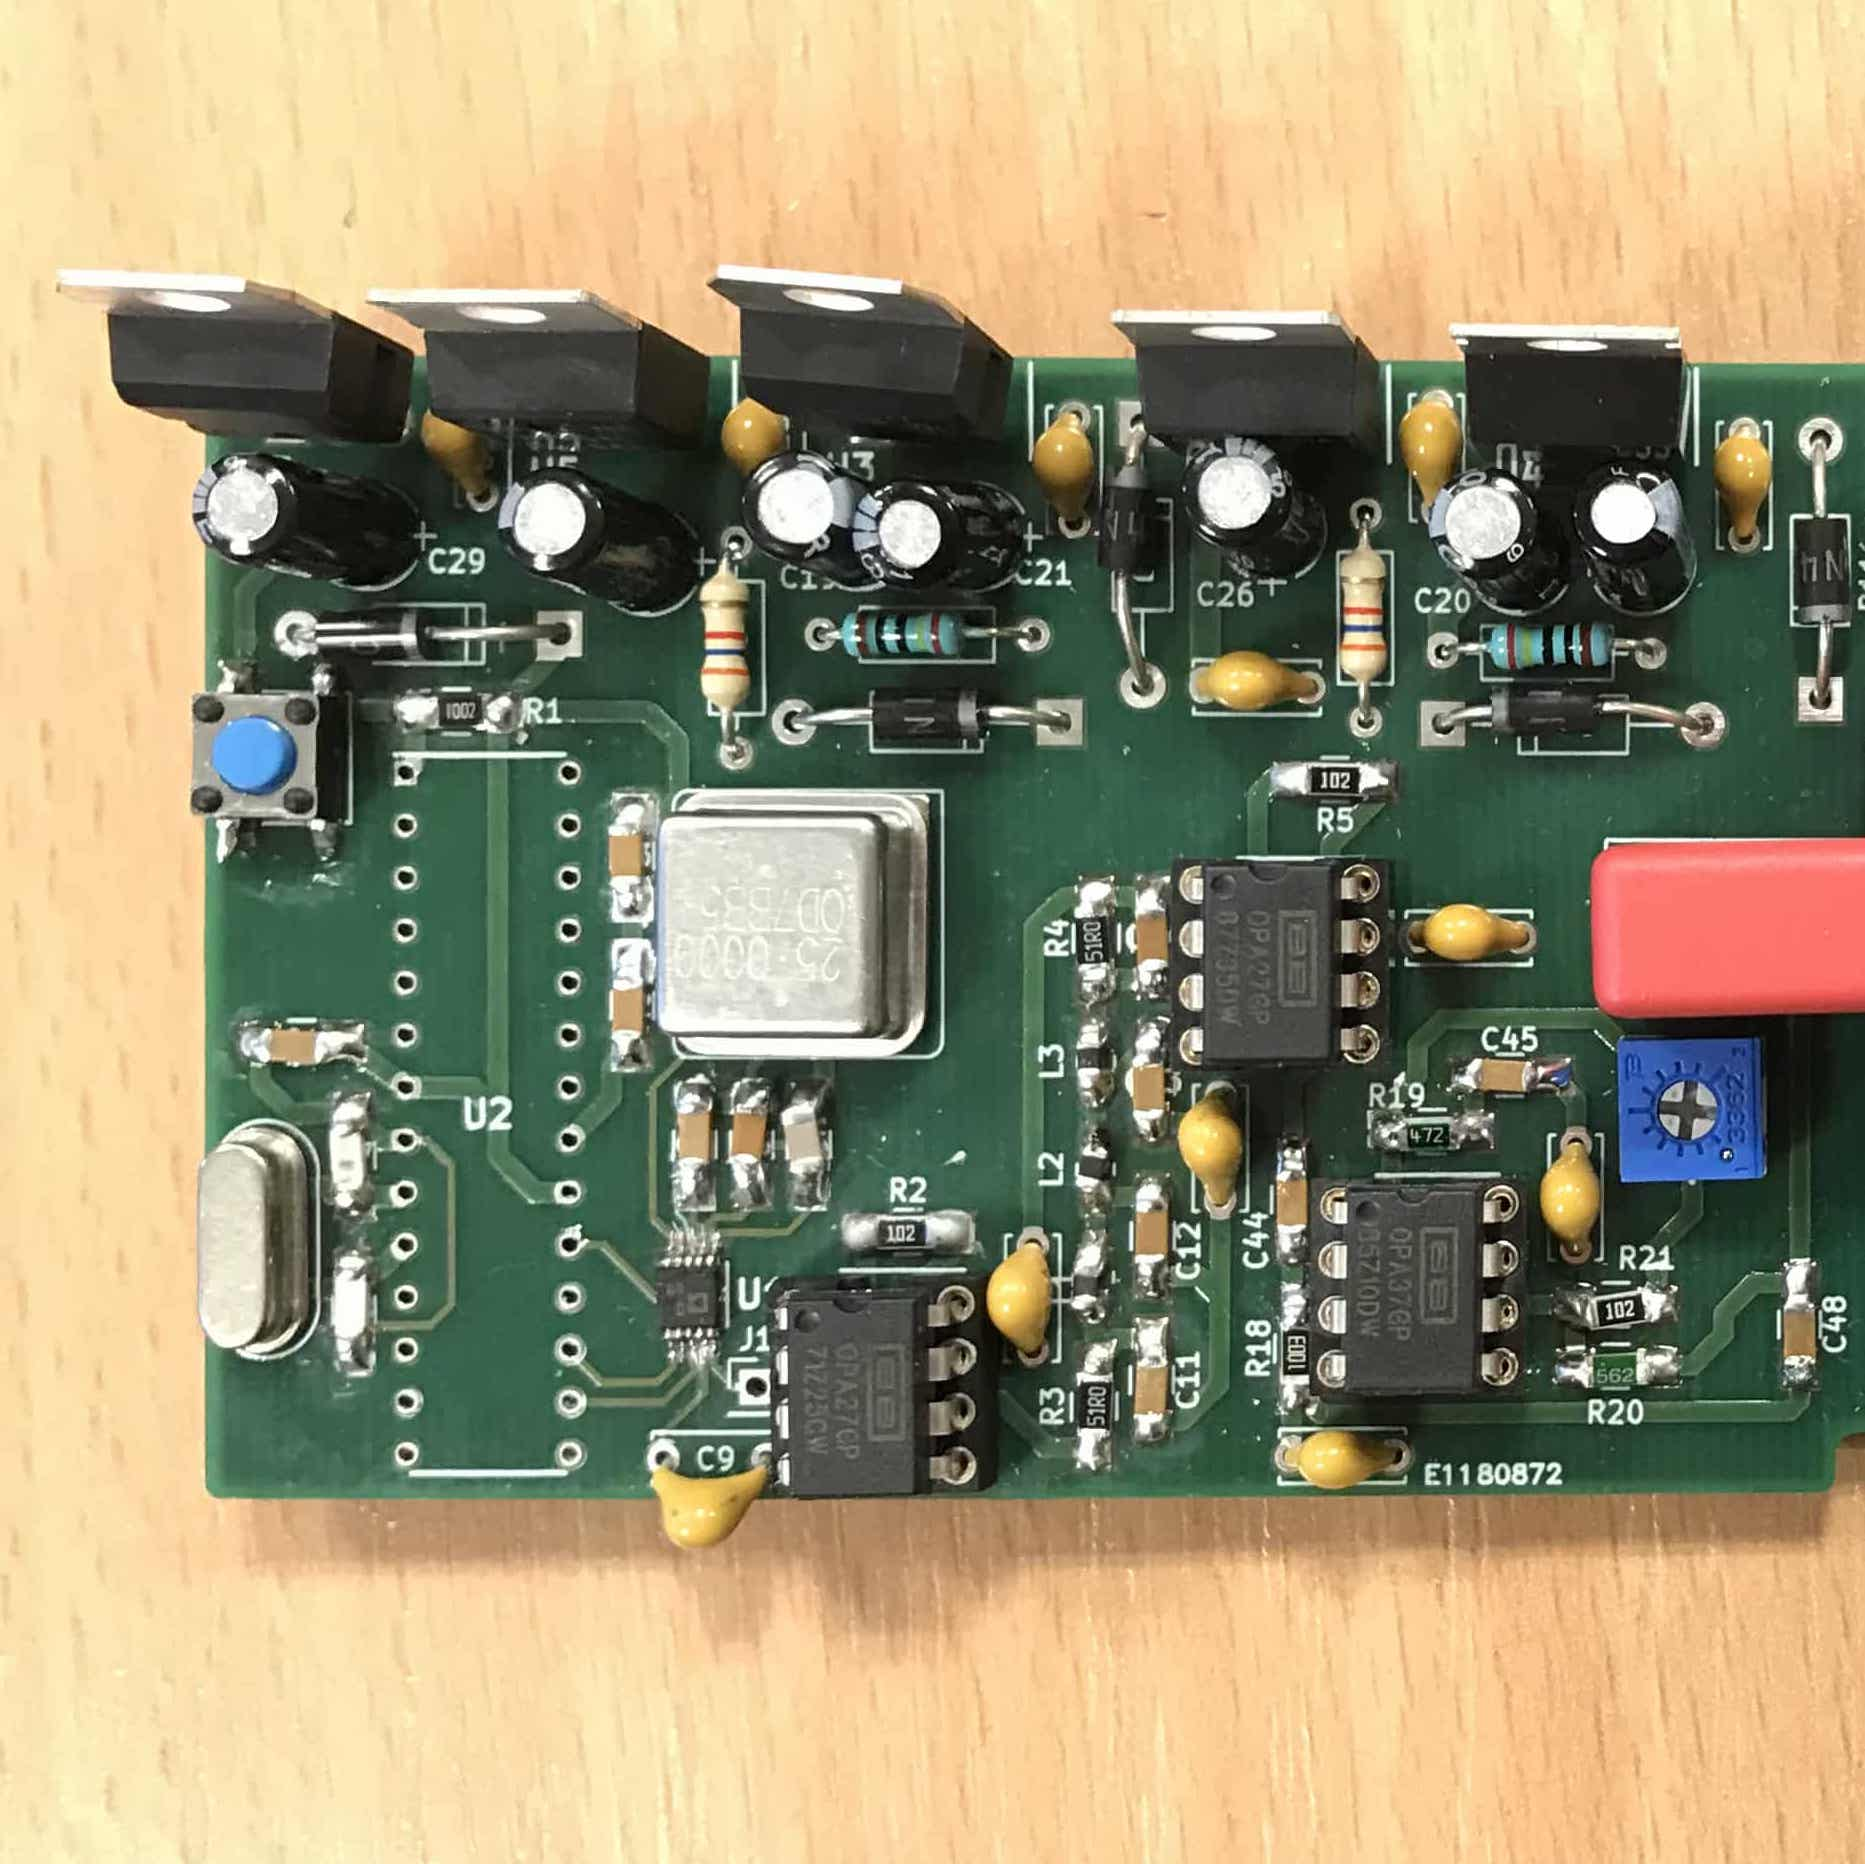Capacitor: (188, 454, 415, 591), (491, 464, 696, 615), (1172, 432, 1329, 582), (1423, 464, 1573, 615), (735, 447, 891, 592), (851, 476, 1025, 596), (1570, 459, 1698, 615)
Diode: (1473, 678, 1618, 751), (1092, 452, 1164, 596), (850, 683, 1005, 748), (1787, 509, 1855, 640), (304, 604, 442, 661)
Resistor: (689, 567, 761, 717), (1328, 541, 1397, 690), (1474, 609, 1630, 674), (822, 604, 981, 664)
